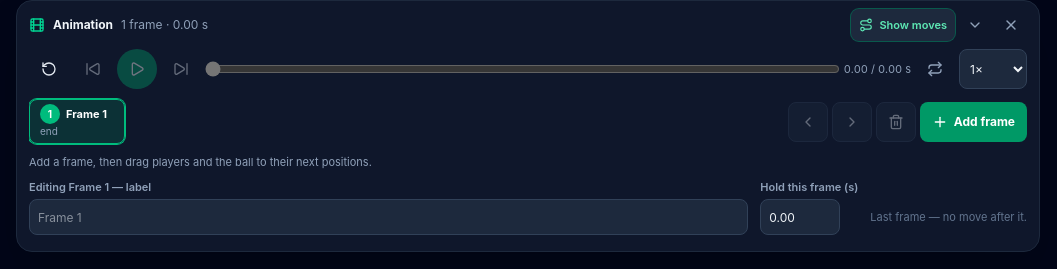
Test: FrameTimeline › move pacing › offers steady and natural pacing, except on the last frame
Expected: the field labelled "Move pacing" is not shown
Click the button "Add frame".
click(973, 122)  # box [920, 102, 1027, 142]
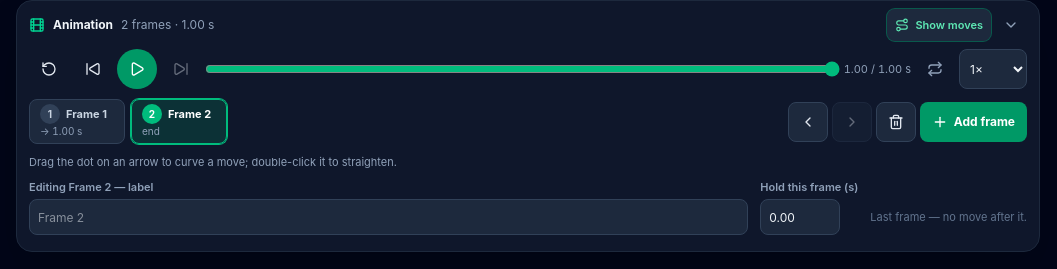
Expected: the field labelled "Move pacing" is not shown
Click the button "1 Frame 1 → 1.00 s".
click(77, 122)  # box [29, 99, 125, 144]
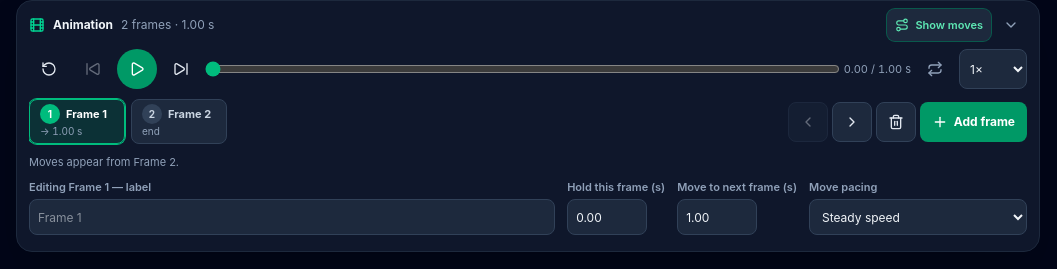
Now the dropdown labelled "Move pacing" shows "Steady speed", box [809, 199, 1027, 235]
